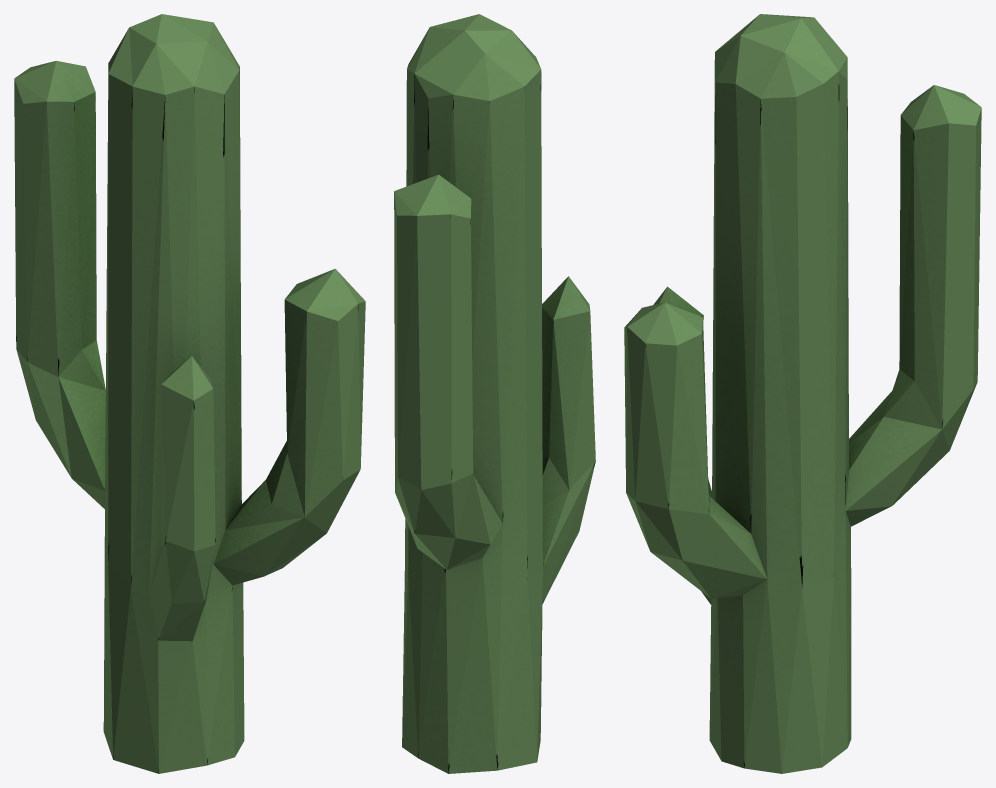
The model's file is cactus1.glb.
The picture shows the model from 3 angles, left to right: view 1: azimuth 30°, elevation 25°; view 2: azimuth 150°, elevation 25°; view 3: azimuth 270°, elevation 25°; orthographic projection.
Parts seen in each view (by area): view 1: ___; view 2: ___; view 3: ___.
Boxes of the visible parts, x1=… form: ___: x1=14, y1=14, x2=365, y2=773; ___: x1=394, y1=14, x2=595, y2=773; ___: x1=624, y1=14, x2=981, y2=773.
Size of the model in its own units: 0.5754 by 1.99 by 0.8772.
Materials: 1 (1 with a texture image).
